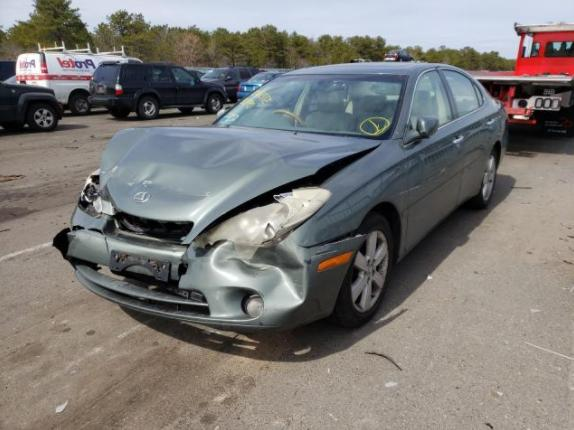Broken part: (52, 206, 368, 331), (189, 143, 382, 257), (195, 186, 333, 247), (76, 166, 118, 220)
Dent: (100, 125, 383, 244), (214, 243, 309, 309)
Missing part: (105, 213, 193, 252), (109, 252, 169, 280)
